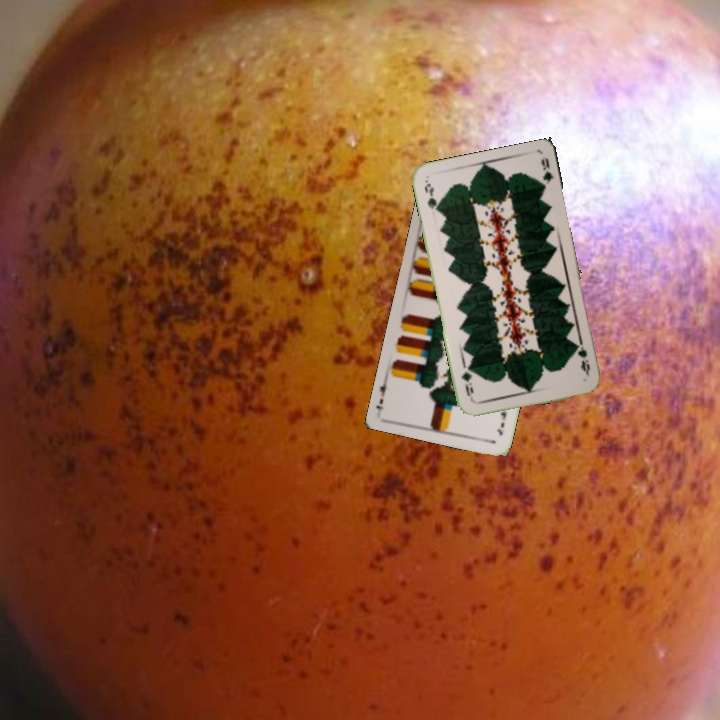E7: (493, 407, 509, 438)
G9: (571, 338, 593, 378), (420, 177, 441, 214)
